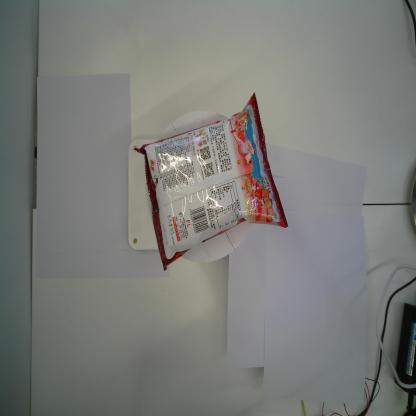Puffed Food: (134, 92, 288, 272)
